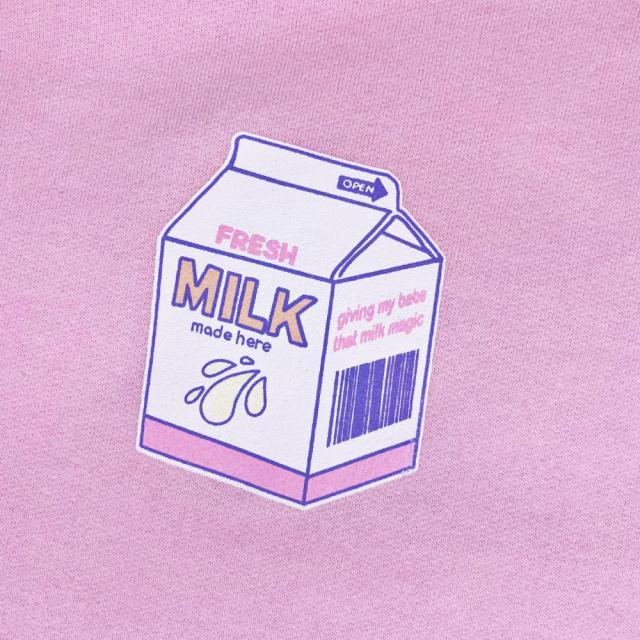non_white_jug: (141, 130, 440, 523)
